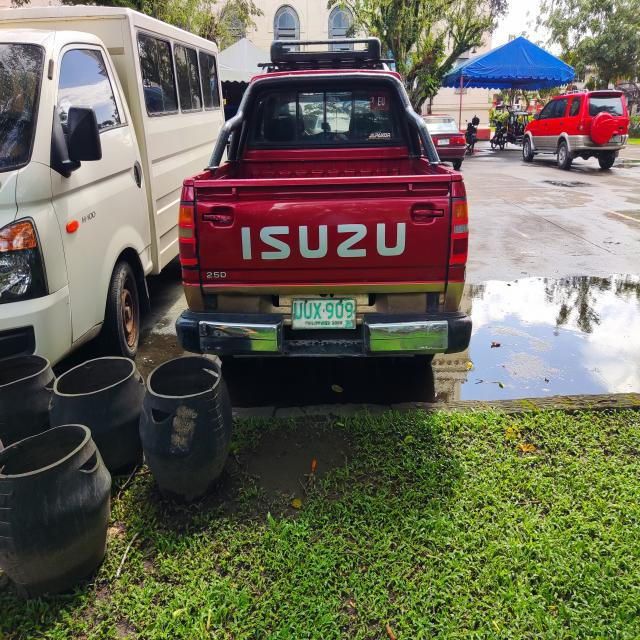plate: (290, 297, 357, 330)
